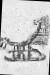G10: (3, 0, 48, 74)
